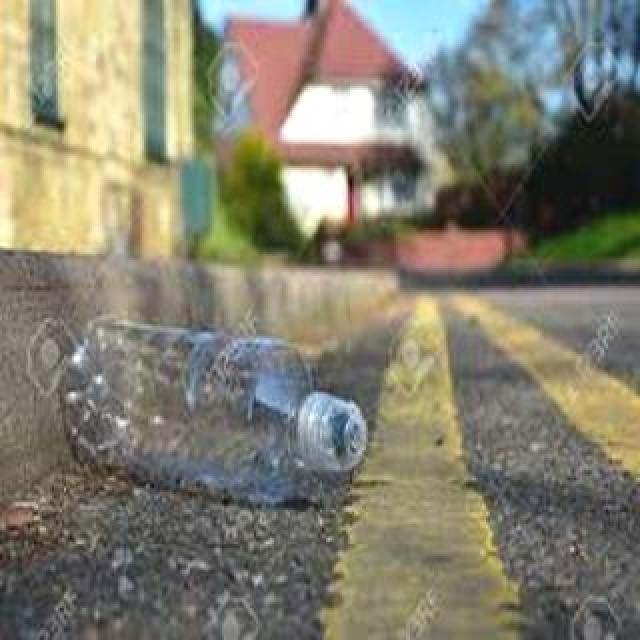Pet_Bottle: (60, 309, 370, 513)
